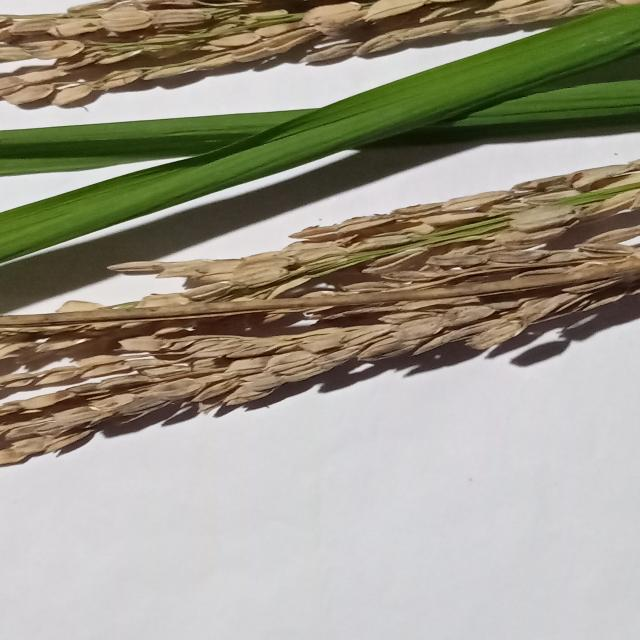Neck_Blast: (0, 156, 640, 475), (0, 0, 625, 115)
